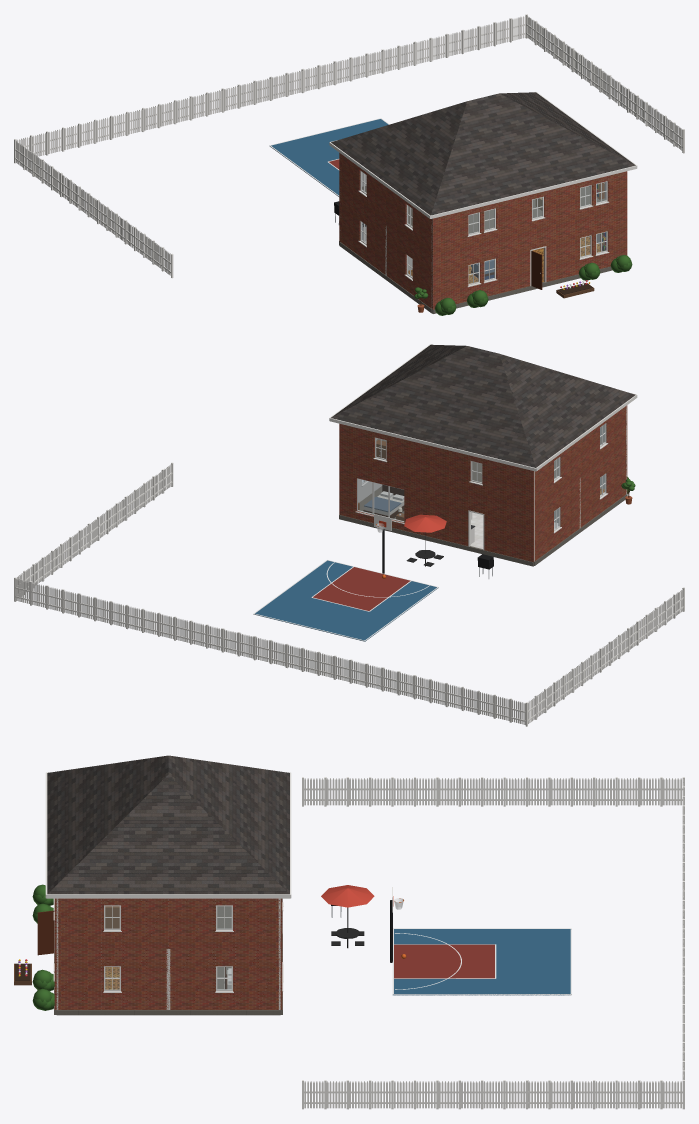
File: house_N4.glb
3 renders of one model, top to bottom at view 1: azimuth 30°, elevation 25°; view 2: azimuth 150°, elevation 25°; view 3: azimuth 270°, elevation 25°, orthographic. The views are drawn at different scales.
Bounding box in the file's own units: 32.1 × 9.55 × 29.95.
15 materials, 15 textured.
